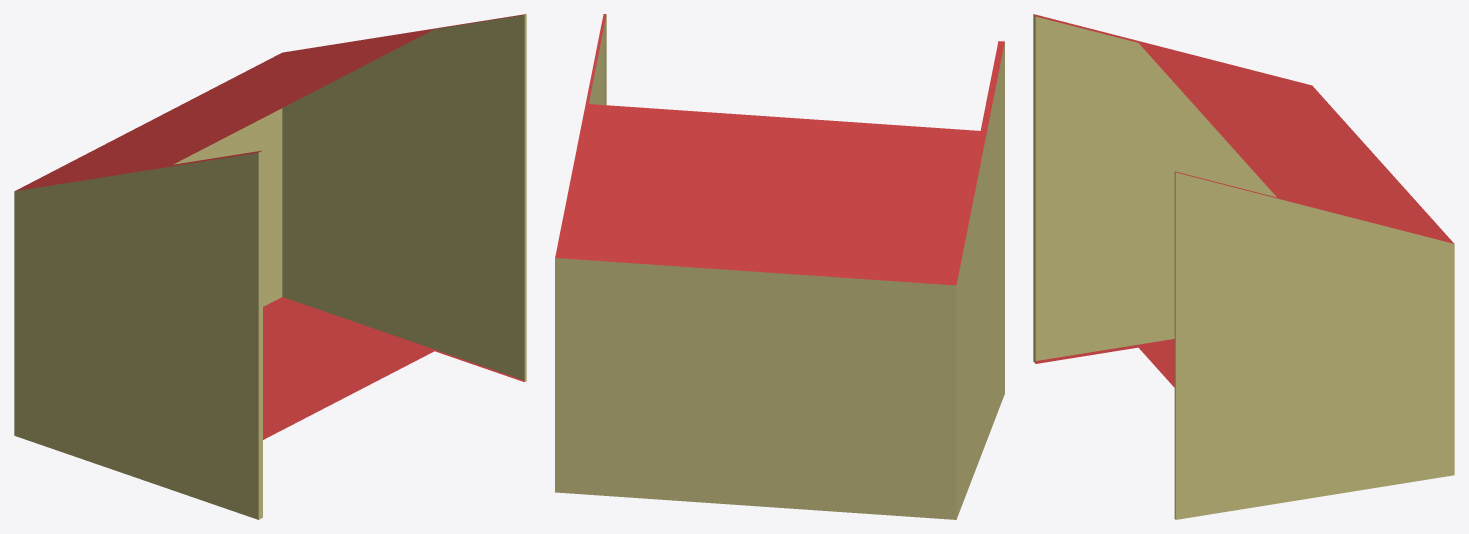
3 renders of one model, left to right at view 1: azimuth 30°, elevation 25°; view 2: azimuth 150°, elevation 25°; view 3: azimuth 270°, elevation 25°, orthographic. The views are drawn at different scales.
Size of the model in its own units: 9.54 by 8.36 by 7.61.
